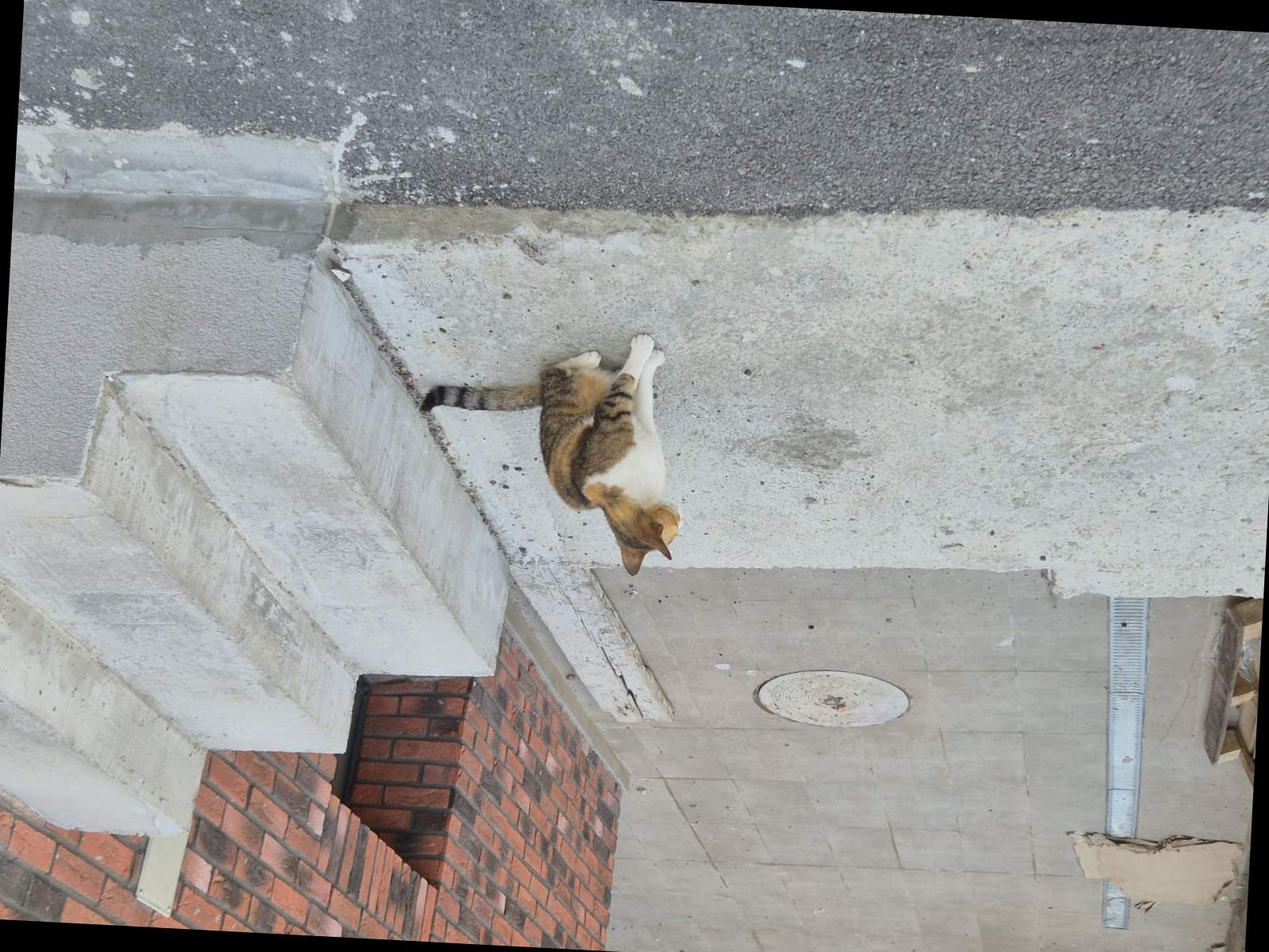macka: (413, 322, 693, 579)
